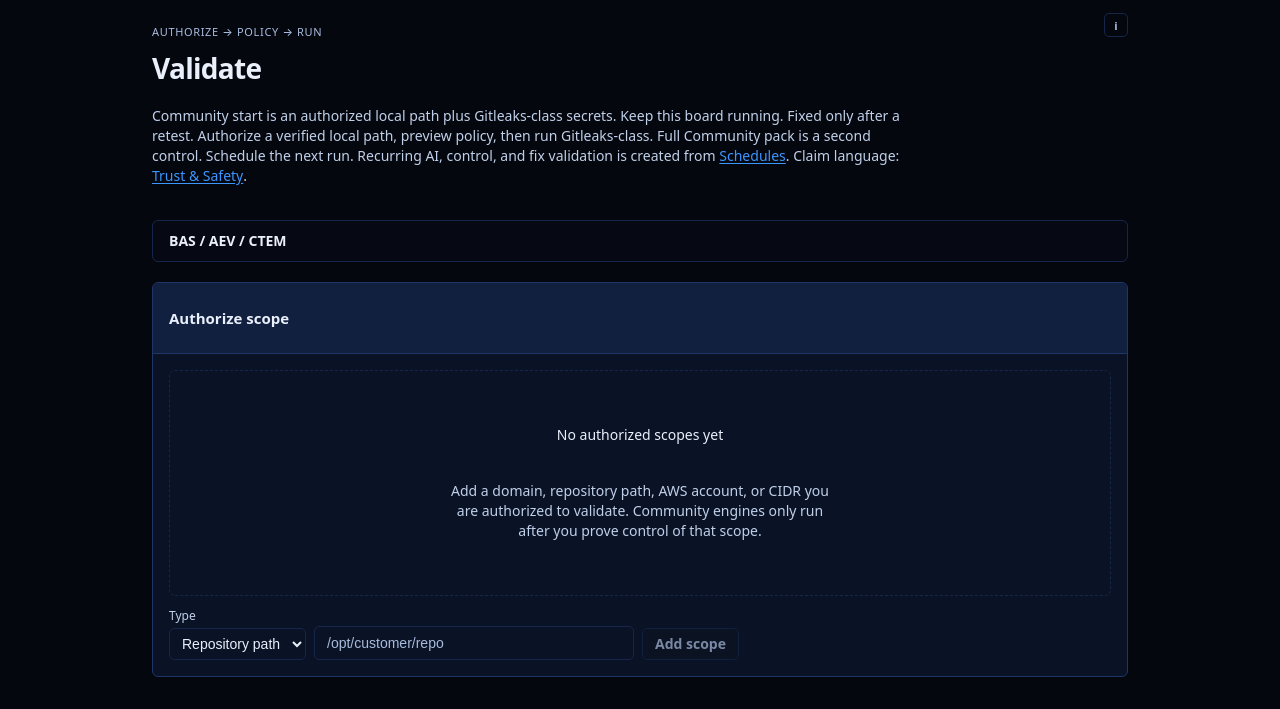
Test: ValidationSnapshotFlow hosted GitHub paste › explains that a GitHub URL is not a control-plane local path
Expected: the text "control plane verifies a local clone" is not shown
In the field named "Scope value": [474, 643] box [314, 626, 634, 660], type "https://github.com/acme/payments-api"
(page scrolled)
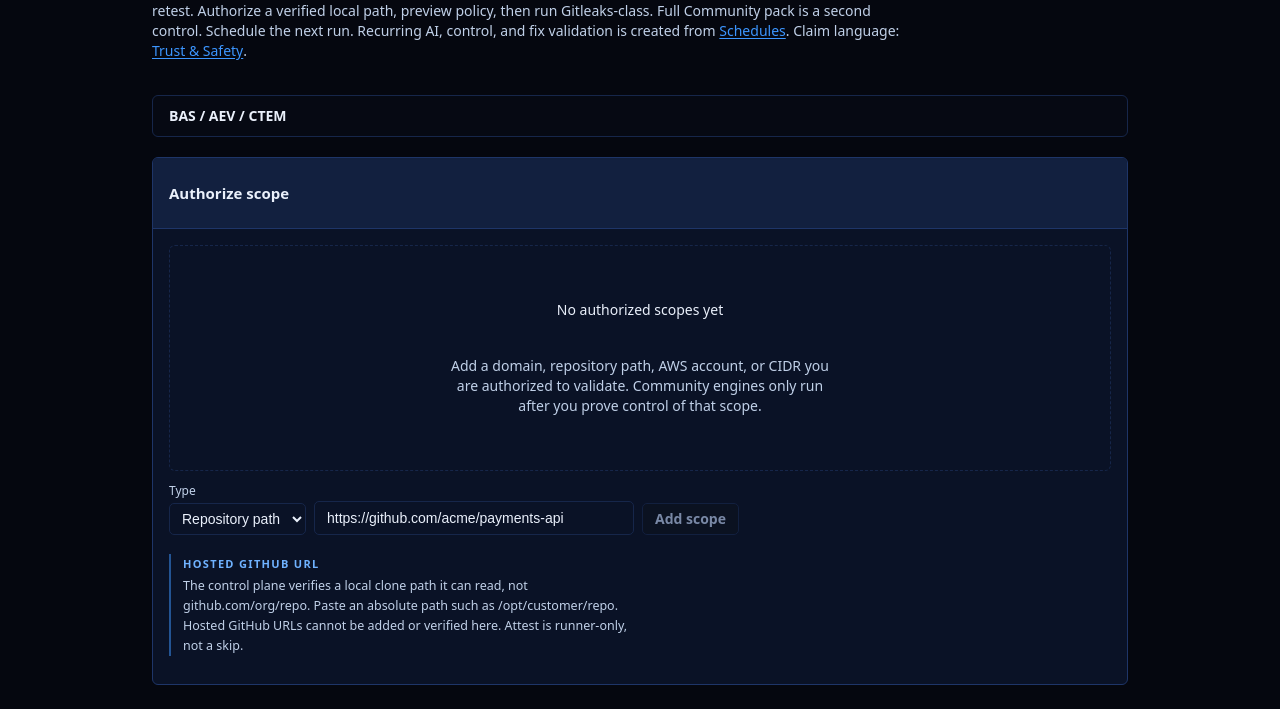
Expected: the dropdown named "Scope type" shows "Repository path", [169, 503, 306, 535]
Expected: the element that starts with "Hosted GitHub URL" shows "The control plane verifies a local clone path it can read, not github.com/org/repo. Paste an absolute path such as /opt/customer/repo. Hosted GitHub URLs cannot", [183, 577, 627, 654]
